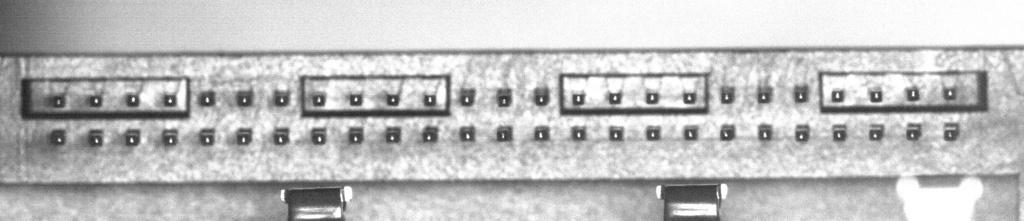pin_ok: (942, 123, 960, 141), (533, 86, 550, 105), (459, 87, 476, 105), (273, 88, 290, 106), (236, 89, 254, 106), (497, 88, 513, 107), (199, 90, 216, 107), (49, 128, 66, 145), (273, 128, 290, 145), (906, 123, 922, 141), (236, 127, 252, 145), (162, 129, 178, 146), (385, 126, 401, 143), (199, 128, 215, 145), (533, 125, 550, 141), (124, 129, 140, 146), (422, 126, 439, 142), (757, 124, 773, 141), (458, 126, 475, 142), (794, 84, 809, 102), (794, 125, 810, 141), (832, 124, 847, 141), (720, 86, 735, 103), (88, 129, 103, 146), (869, 124, 884, 141), (348, 126, 363, 143), (496, 126, 513, 141), (757, 87, 772, 103), (571, 125, 586, 141), (720, 124, 735, 140), (311, 128, 326, 144), (645, 125, 660, 140), (682, 90, 697, 104), (942, 86, 957, 100), (906, 86, 920, 101), (830, 88, 845, 102), (571, 92, 586, 106), (684, 125, 698, 140), (609, 126, 624, 140), (645, 90, 659, 104), (163, 93, 177, 107), (386, 92, 400, 106), (126, 93, 140, 107), (608, 90, 622, 104), (869, 88, 883, 102), (52, 95, 66, 108), (423, 92, 436, 106), (312, 93, 326, 106), (349, 92, 363, 105), (88, 94, 101, 107)
